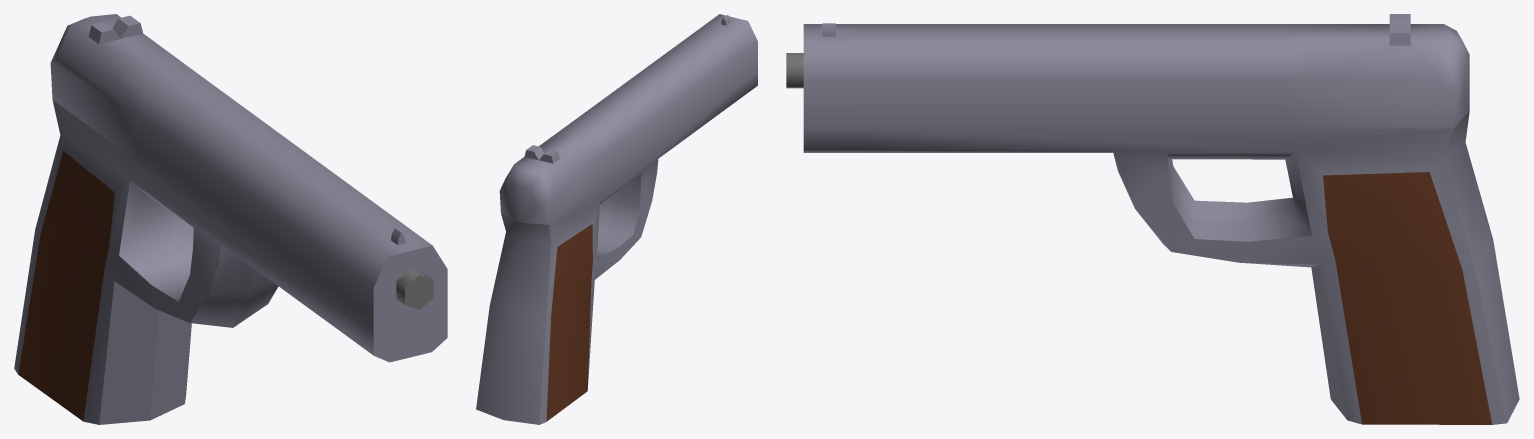
File: PistolTest.glb
3 views of the same model, side by side, from view 1: azimuth 30°, elevation 25°; view 2: azimuth 150°, elevation 25°; view 3: azimuth 270°, elevation 25° (orthographic). The views are drawn at different scales.
Visible parts, largest first — view 1: Plane, Plane.001; view 2: Plane, Plane.001; view 3: Plane, Plane.001.
Part boxes in pixels (x1,y1,x2,y2): Plane: [14, 100, 447, 424]; Plane.001: [50, 14, 447, 334]; Plane: [476, 72, 757, 424]; Plane.001: [499, 14, 757, 224]; Plane: [786, 53, 1519, 424]; Plane.001: [803, 14, 1469, 128].
Size of the model in its own units: 0.0554 by 0.1887 by 0.3338.
